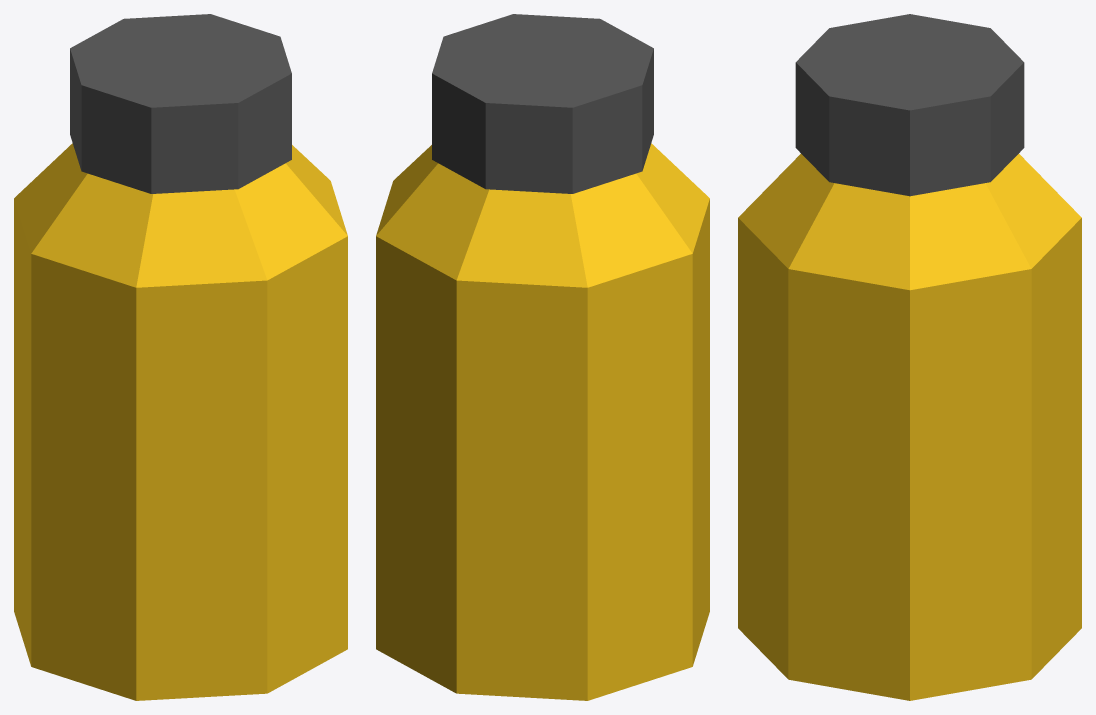
Rendered from Produce_Bottle.glb.
3 renders of one model, left to right at view 1: azimuth 30°, elevation 25°; view 2: azimuth 150°, elevation 25°; view 3: azimuth 270°, elevation 25°, orthographic.
Parts seen in each view (by area): view 1: Cylinder001; view 2: Cylinder001; view 3: Cylinder001.
Boxes of the visible parts, x1,y1,x2,y2 form: Cylinder001: (14,14,347,700); Cylinder001: (376,14,709,700); Cylinder001: (738,14,1081,700).
Bounding box in the file's own units: 0.1506 × 0.2737 × 0.1506.
